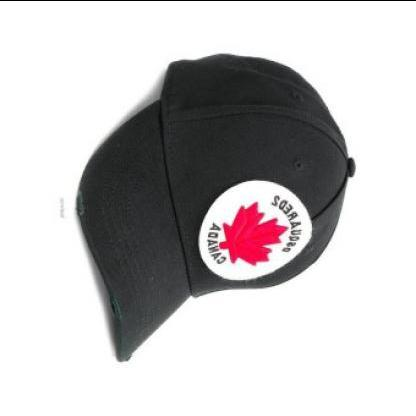cap: (68, 45, 364, 371)
